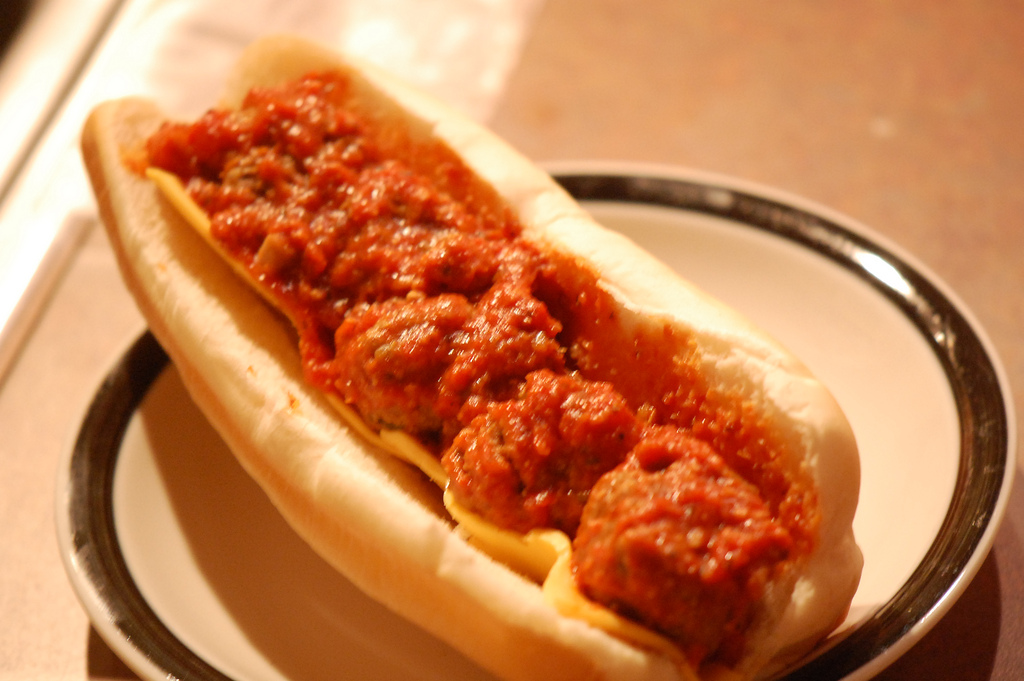slice of bread: (59, 104, 878, 675)
